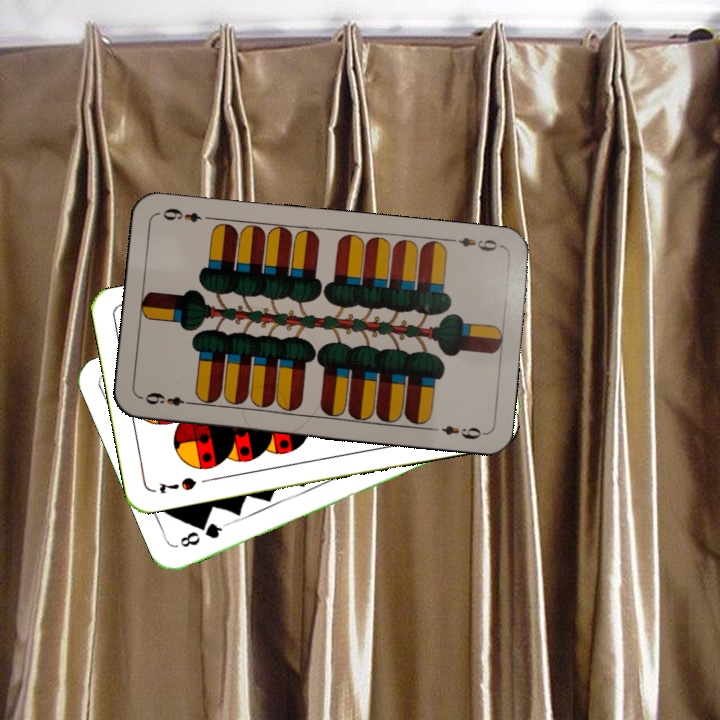E9: (445, 233, 504, 254), (141, 388, 197, 409)
G8: (176, 519, 229, 550)
S7: (155, 473, 199, 497)
